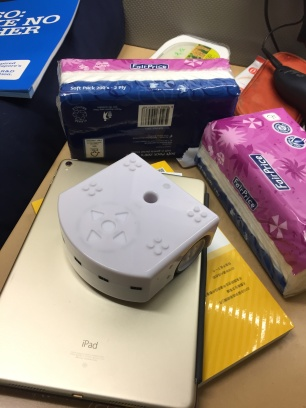thymio: (39, 150, 227, 315)
